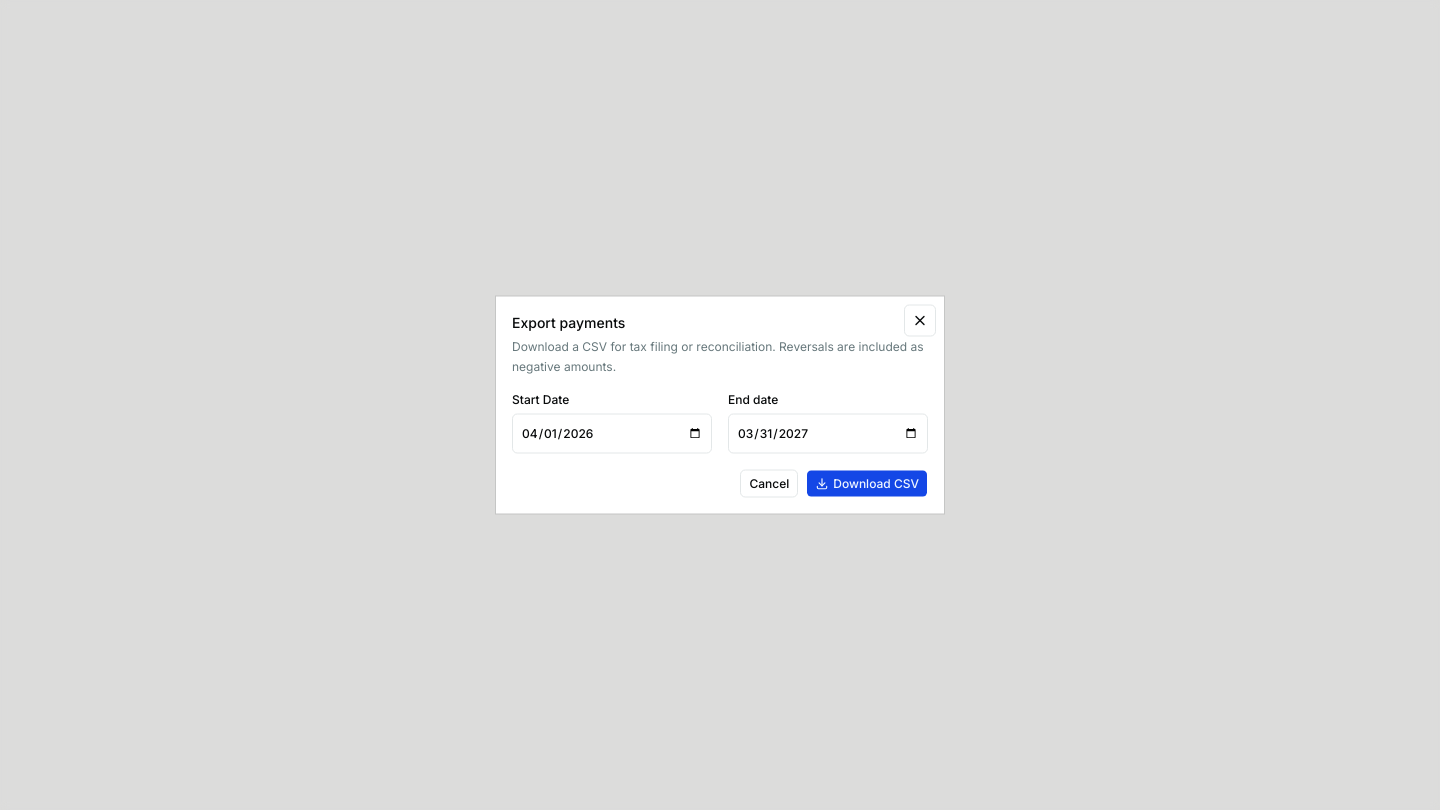
Test: PaymentExportDialog › blocks a reversed range and explains the error
Type "2026-08-02" into the date field labelled "Start Date".
click(612, 434); type("2026-08-02")  # box [512,414,712,454]
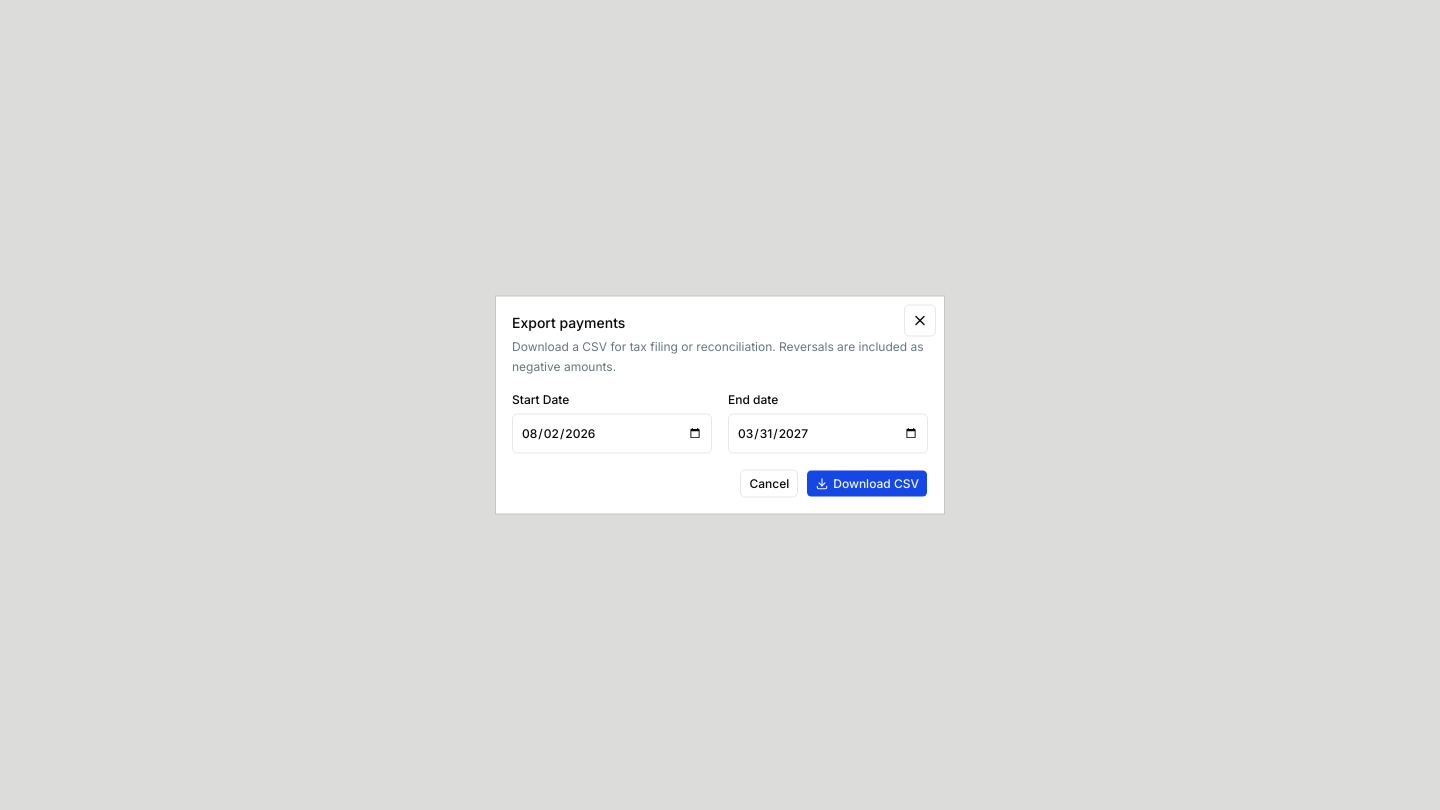
Type "2026-08-01" into the date field labelled "End date".
click(828, 434); type("2026-08-01")  # box [728,414,928,454]
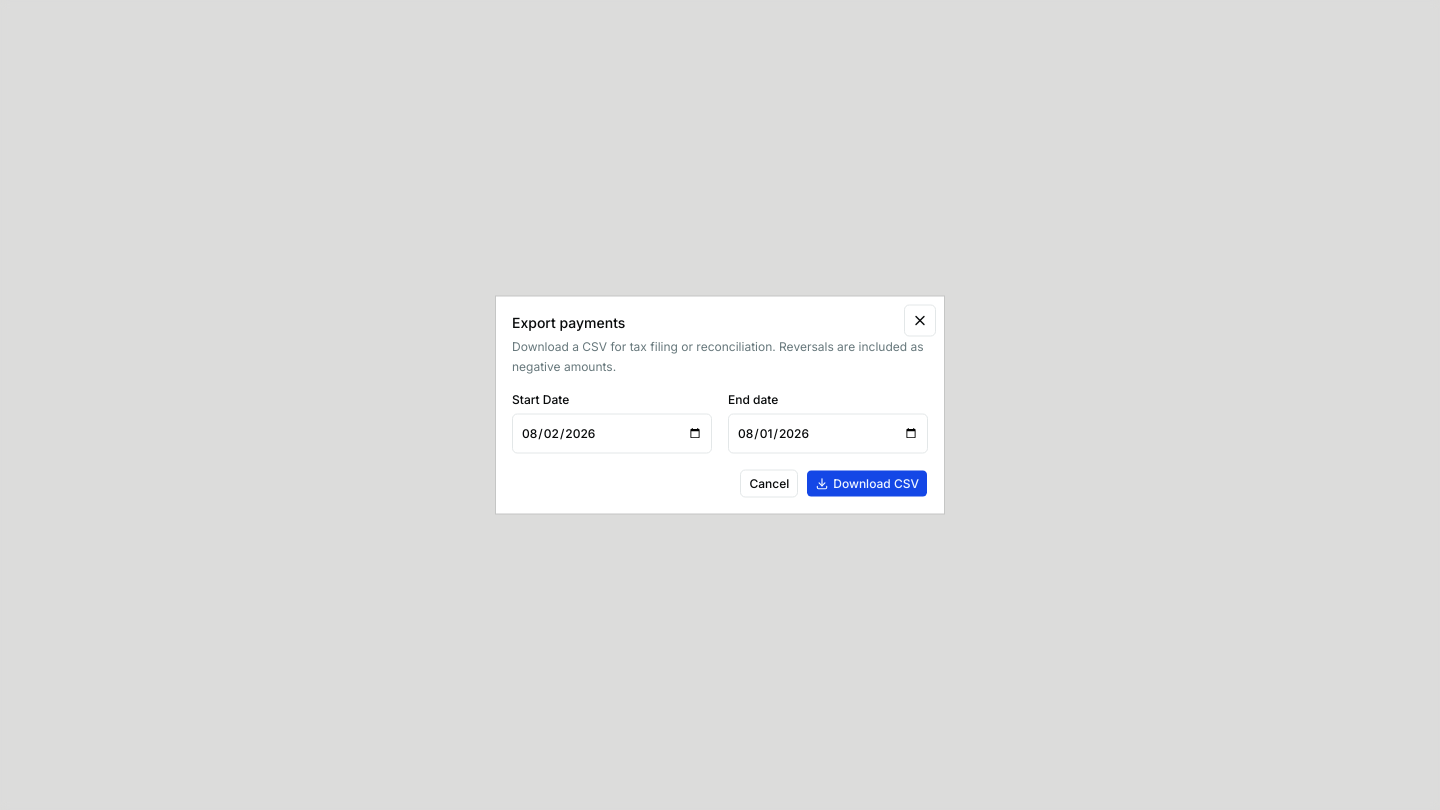
Click the button "Download CSV".
click(867, 484)  # box [806,470,928,498]
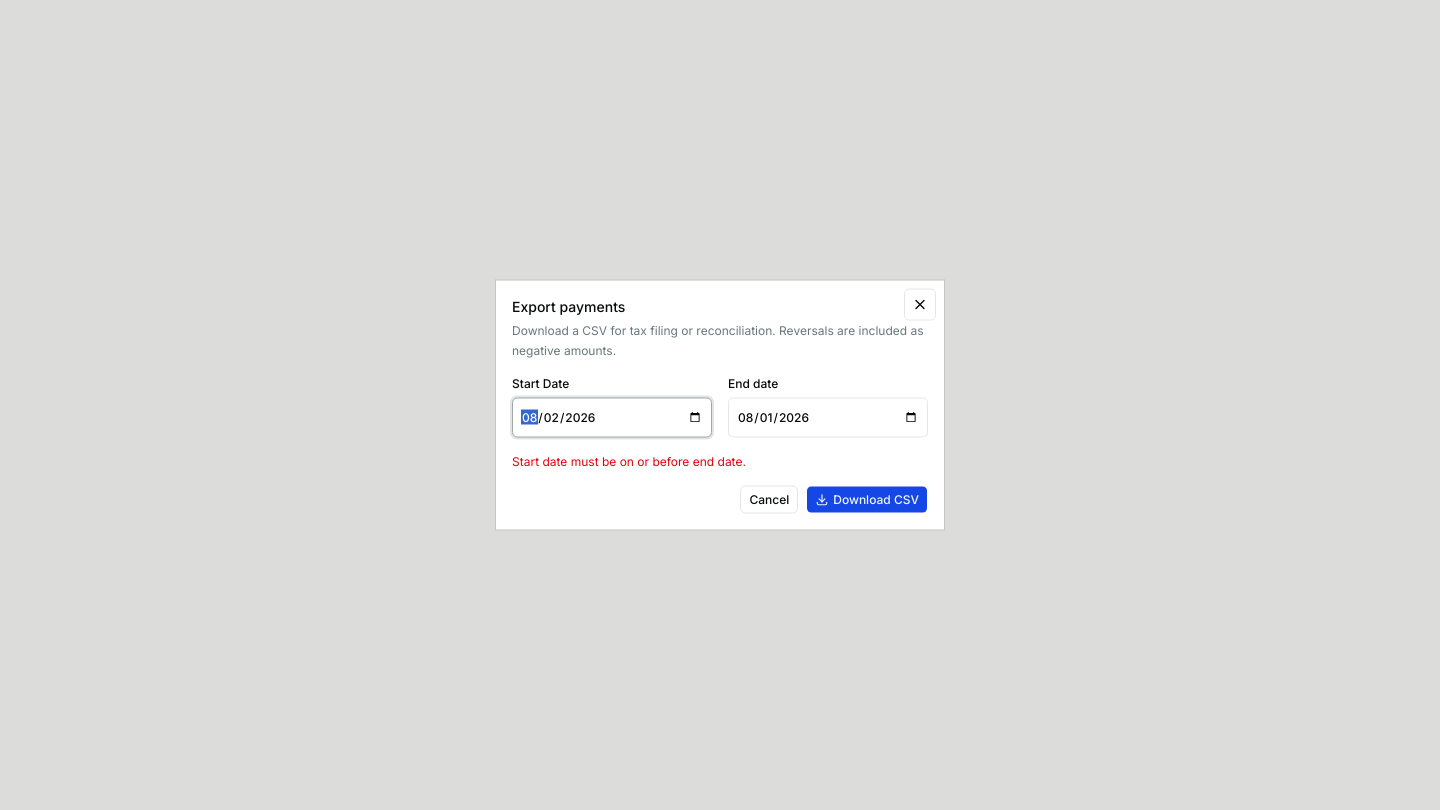
Expected: the text "Start date must be on or before end date." is shown, [512,454,746,468]
